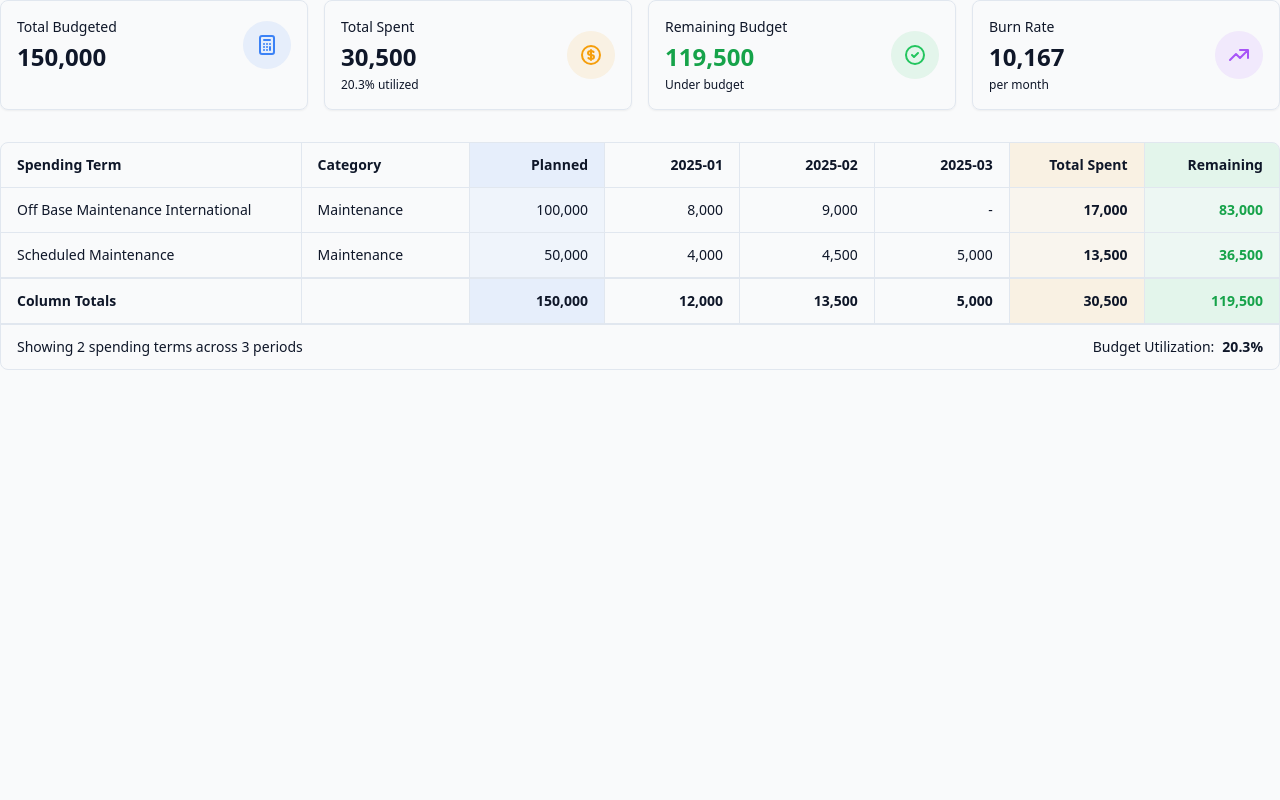
Scenario: BudgetTable › Optimistic Updates and Error Handling › should show success toast after successful save
The image size is (1280, 800).
Click the text "100,000" at (562, 210), box [536, 200, 588, 220]
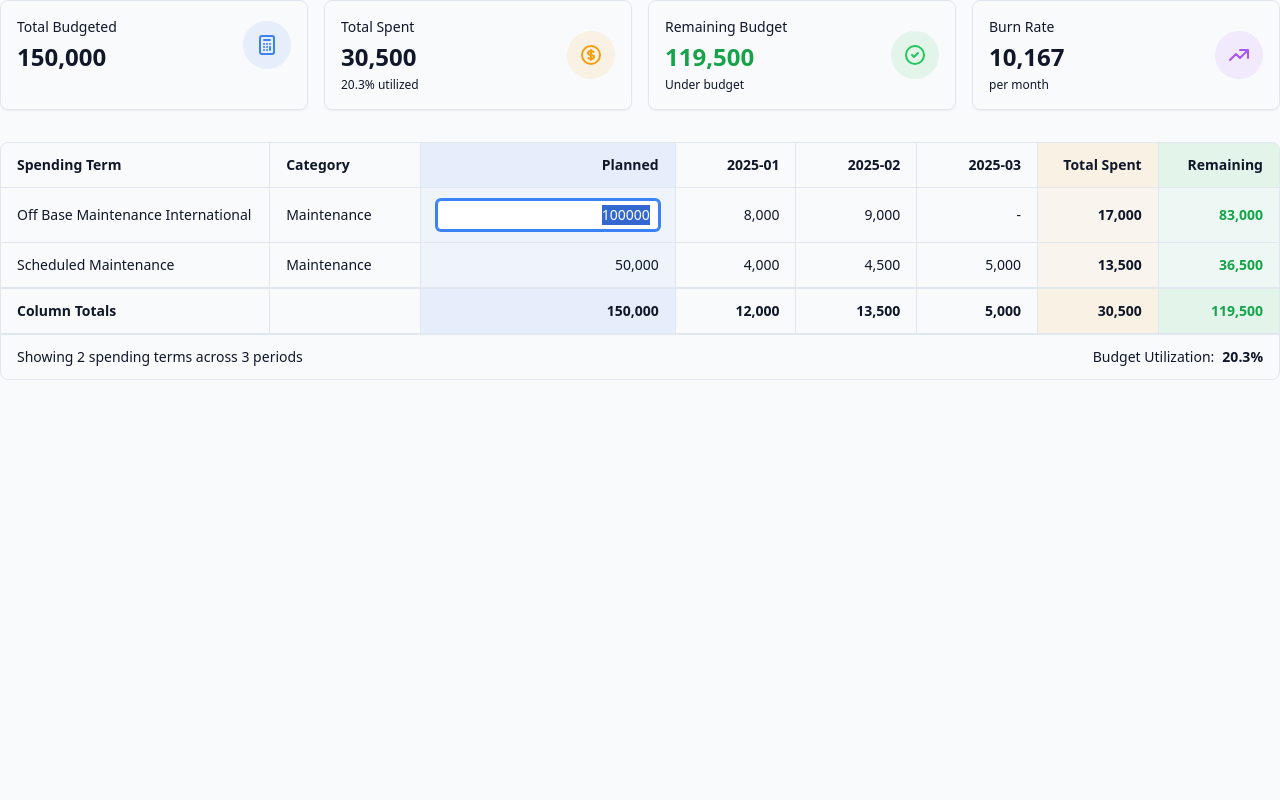
Replace the text in the field with "120000" at (548, 215), box [437, 200, 659, 230]
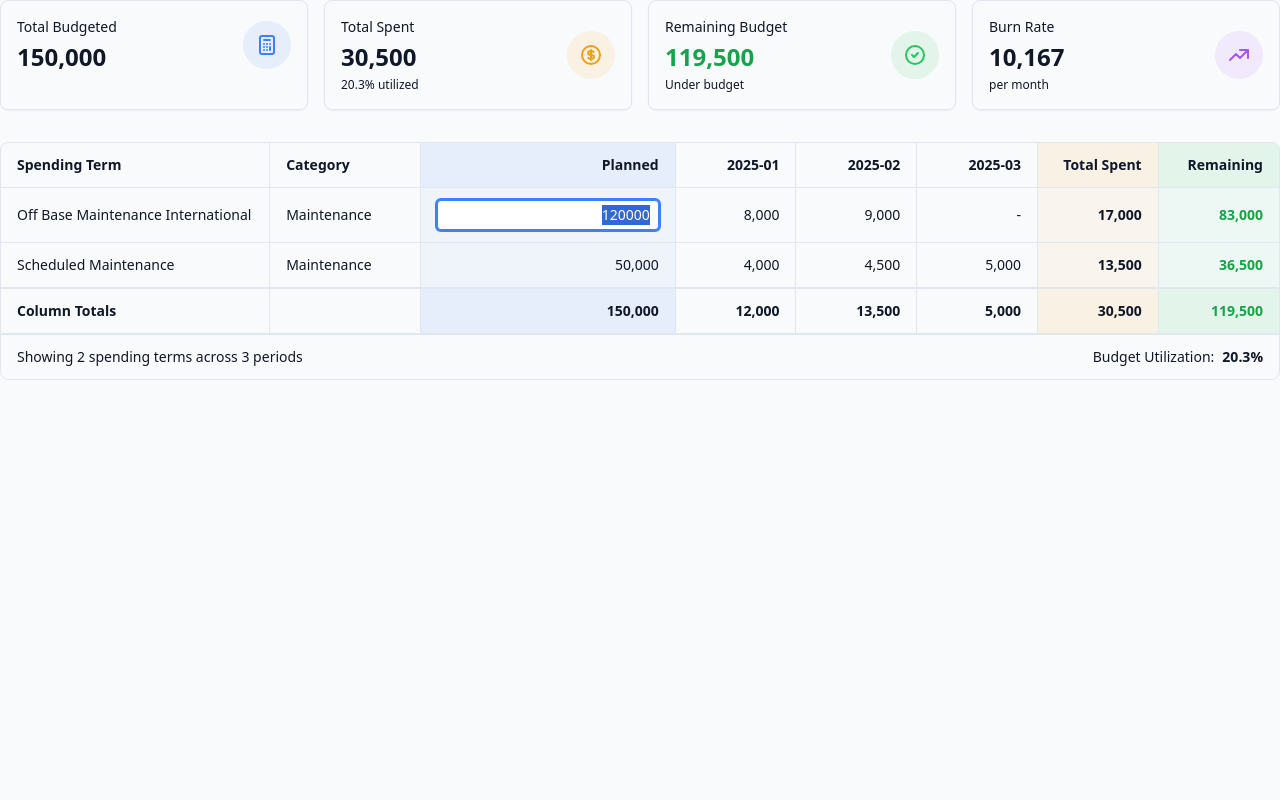
Press Enter in the field, box [437, 200, 659, 230]
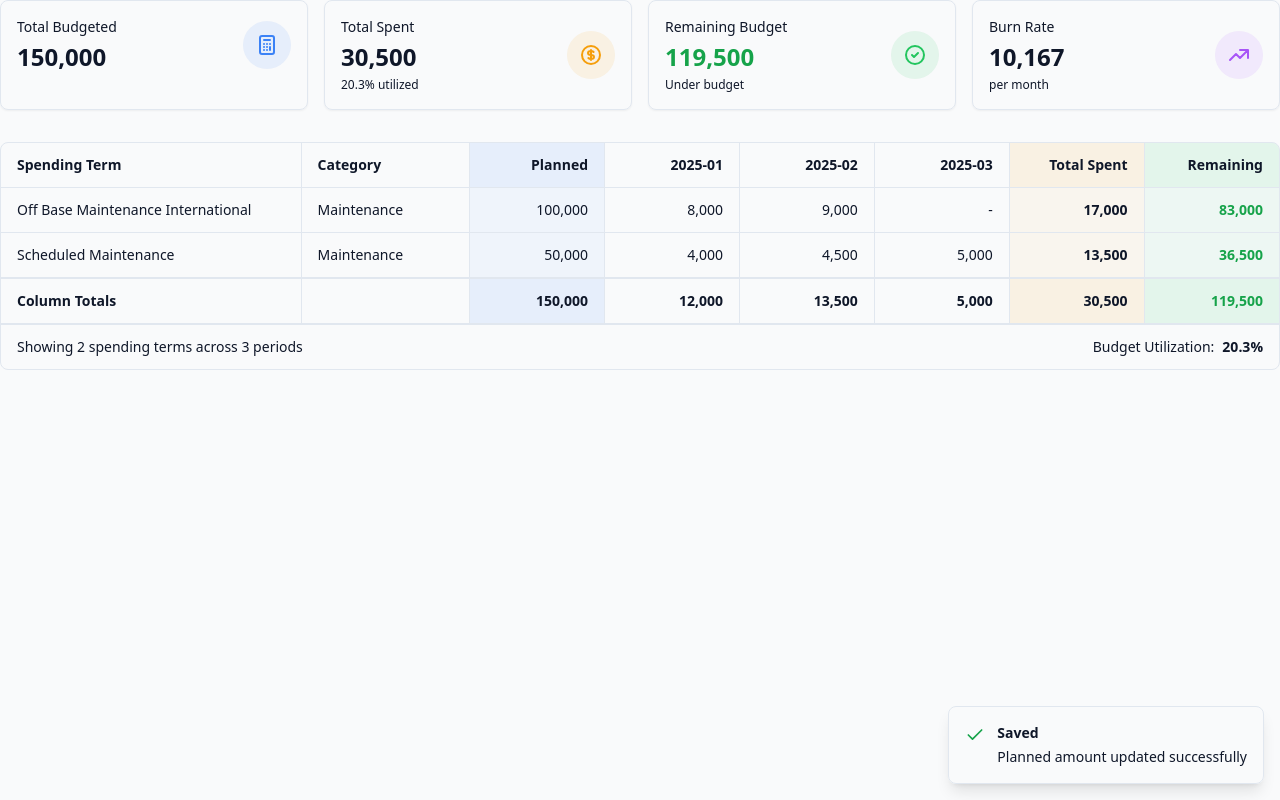
expect the text "Saved" is shown: met, box [997, 723, 1039, 742]
expect the text "Planned amount updated successfully" is shown: met, box [997, 747, 1247, 767]
